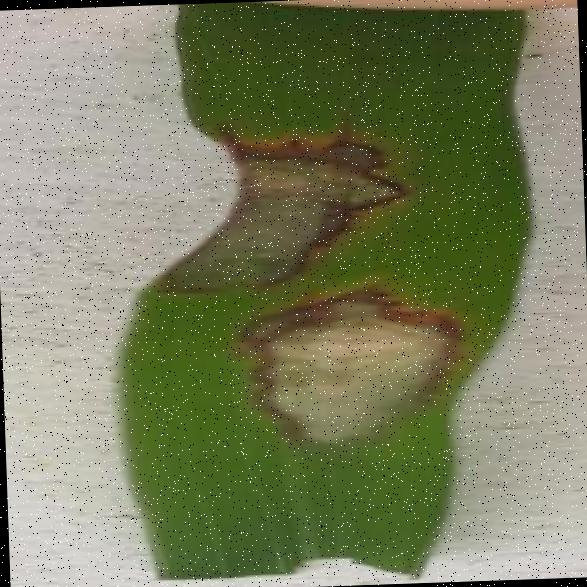Leaf_smut: (226, 273, 516, 478), (138, 110, 404, 310)
